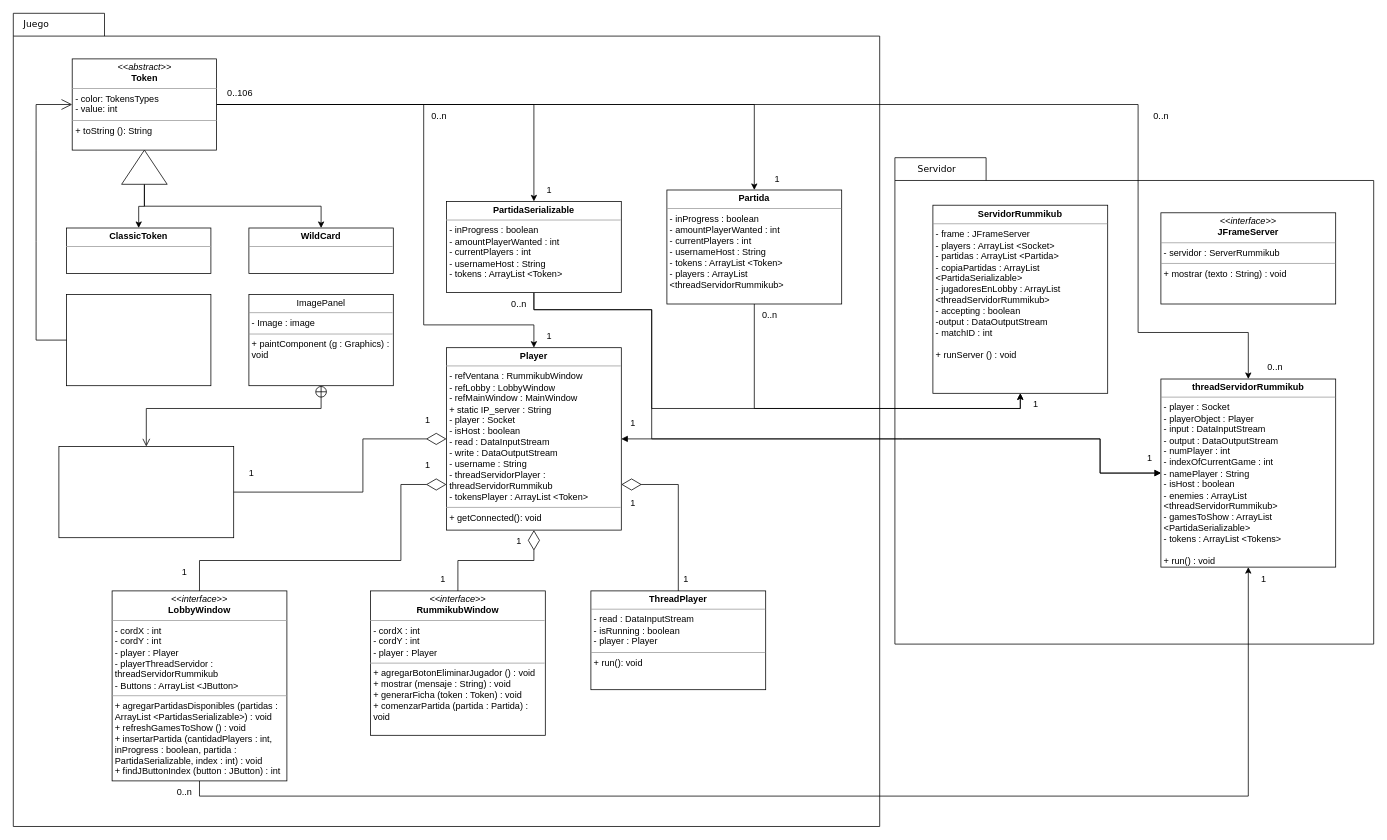
Image size: 1387x840. Some labels were removed from this diagram. Each missing label, with the box of its shape:
<<enumeration>> TokensTypes RED YELLOW BLUE BLACK SPECIAL: (66, 294, 211, 386)
<<interface>> MainWindow - player : Player + run () : void: (58, 446, 234, 538)
